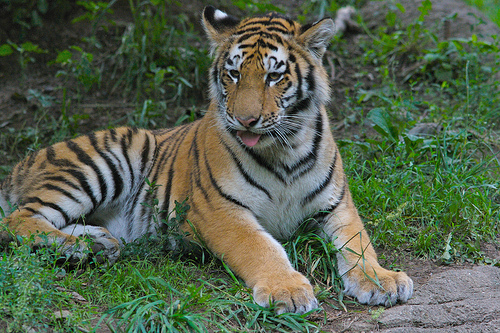Tigre: (6, 5, 394, 303)
